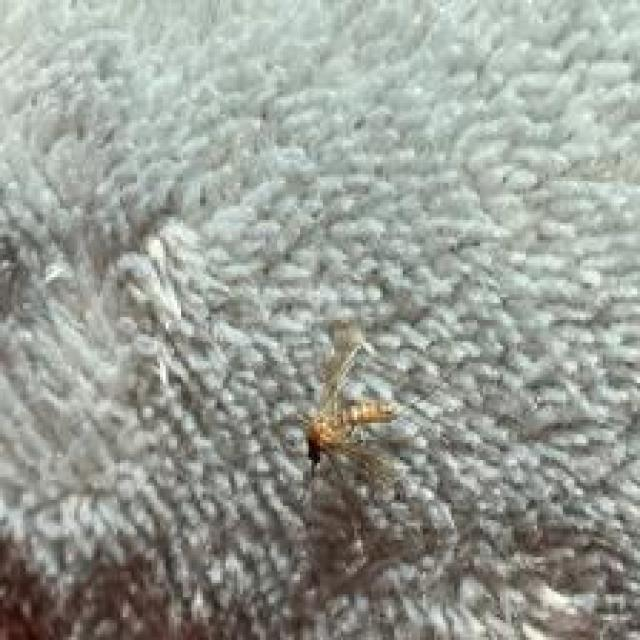Culex: (298, 317, 402, 483)
